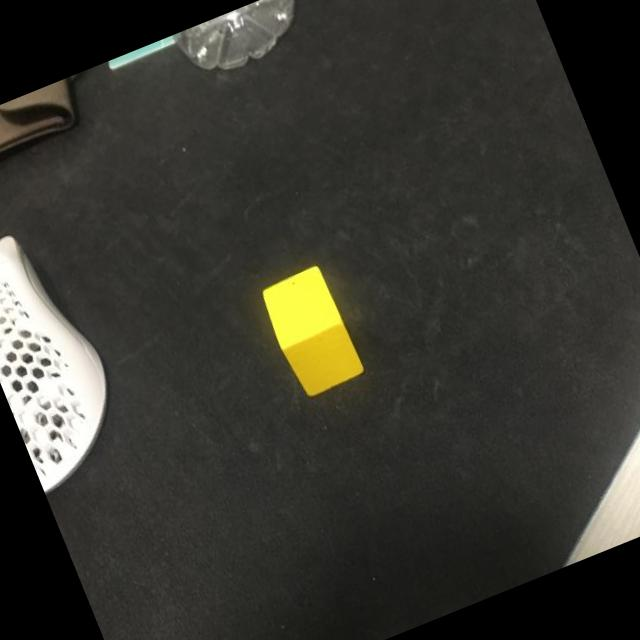yellow: (256, 261, 368, 400)
